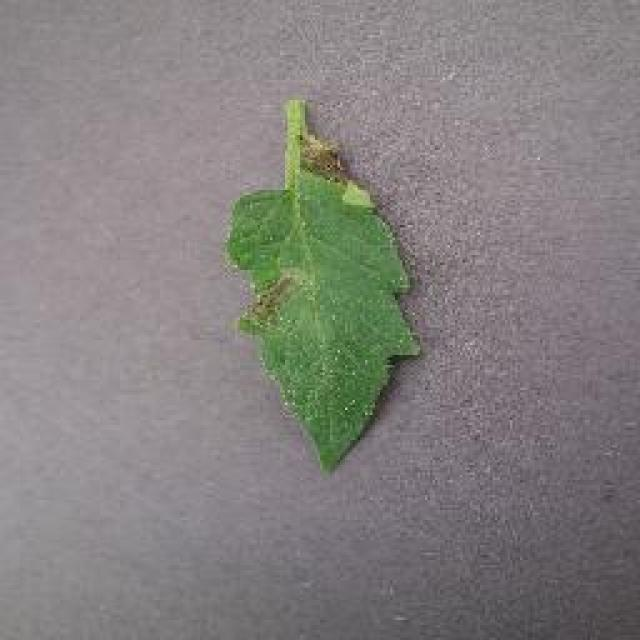Tomato___Late_blight: (222, 96, 427, 477)
